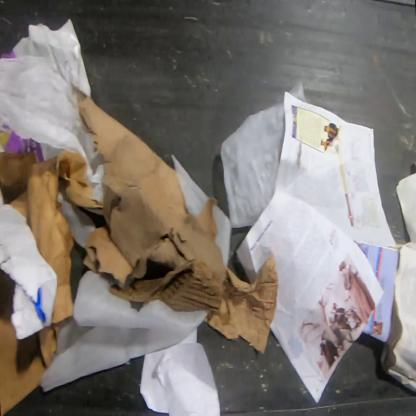cardboard: (75, 87, 228, 313), (7, 149, 104, 324), (0, 264, 60, 416), (207, 257, 280, 354), (0, 152, 20, 204)
